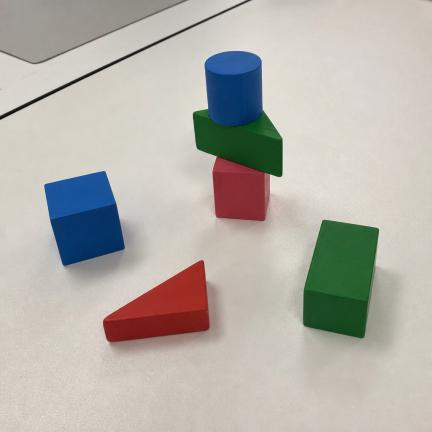BuildingBlocks: (194, 52, 282, 220), (304, 221, 378, 337), (103, 261, 209, 341), (45, 172, 124, 265), (194, 110, 282, 176), (205, 52, 262, 126), (213, 158, 269, 220)
